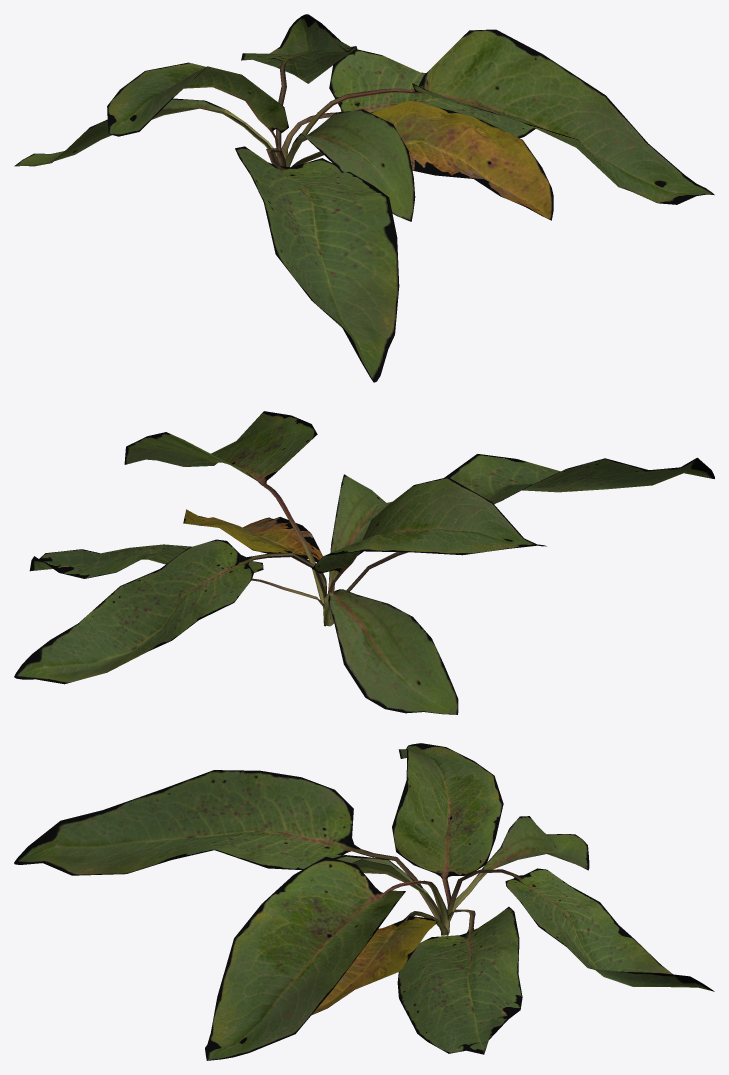
Rendered from weed_a.glb.
3 renders of one model, top to bottom at view 1: azimuth 30°, elevation 25°; view 2: azimuth 150°, elevation 25°; view 3: azimuth 270°, elevation 25°, orthographic. The views are drawn at different scales.
Visible parts, largest first — view 1: weed_a; view 2: weed_a; view 3: weed_a.
Boxes of the visible parts, x1=… form: weed_a: x1=14, y1=14, x2=714, y2=382; weed_a: x1=14, y1=411, x2=714, y2=714; weed_a: x1=14, y1=743, x2=714, y2=1060.
Bounding box in the file's own units: 0.2194 × 0.0725 × 0.2909.
Materials: 1 (1 with a texture image).
